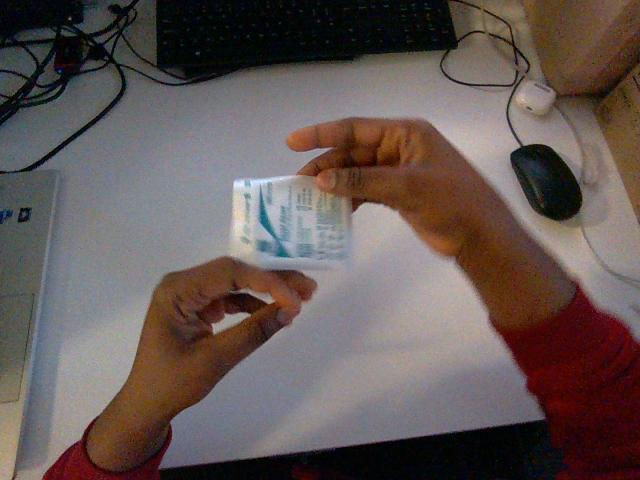gauze: (230, 175, 351, 269)
